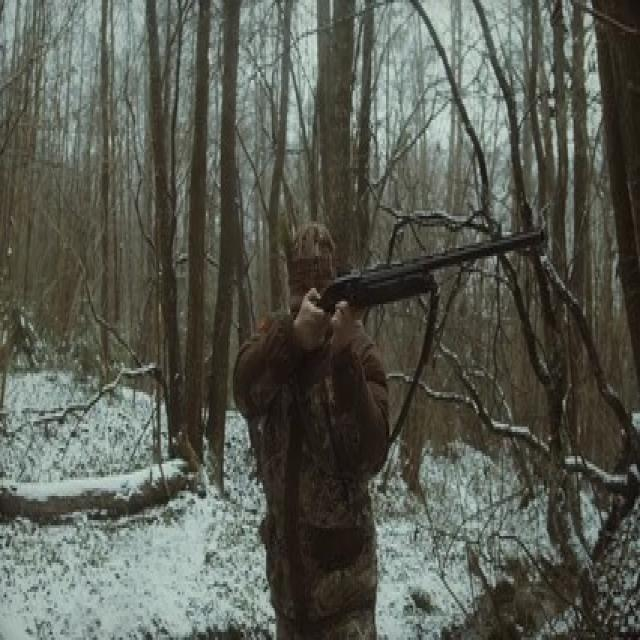Gun_Holder: (285, 233, 549, 373)
Person: (236, 217, 387, 640)
